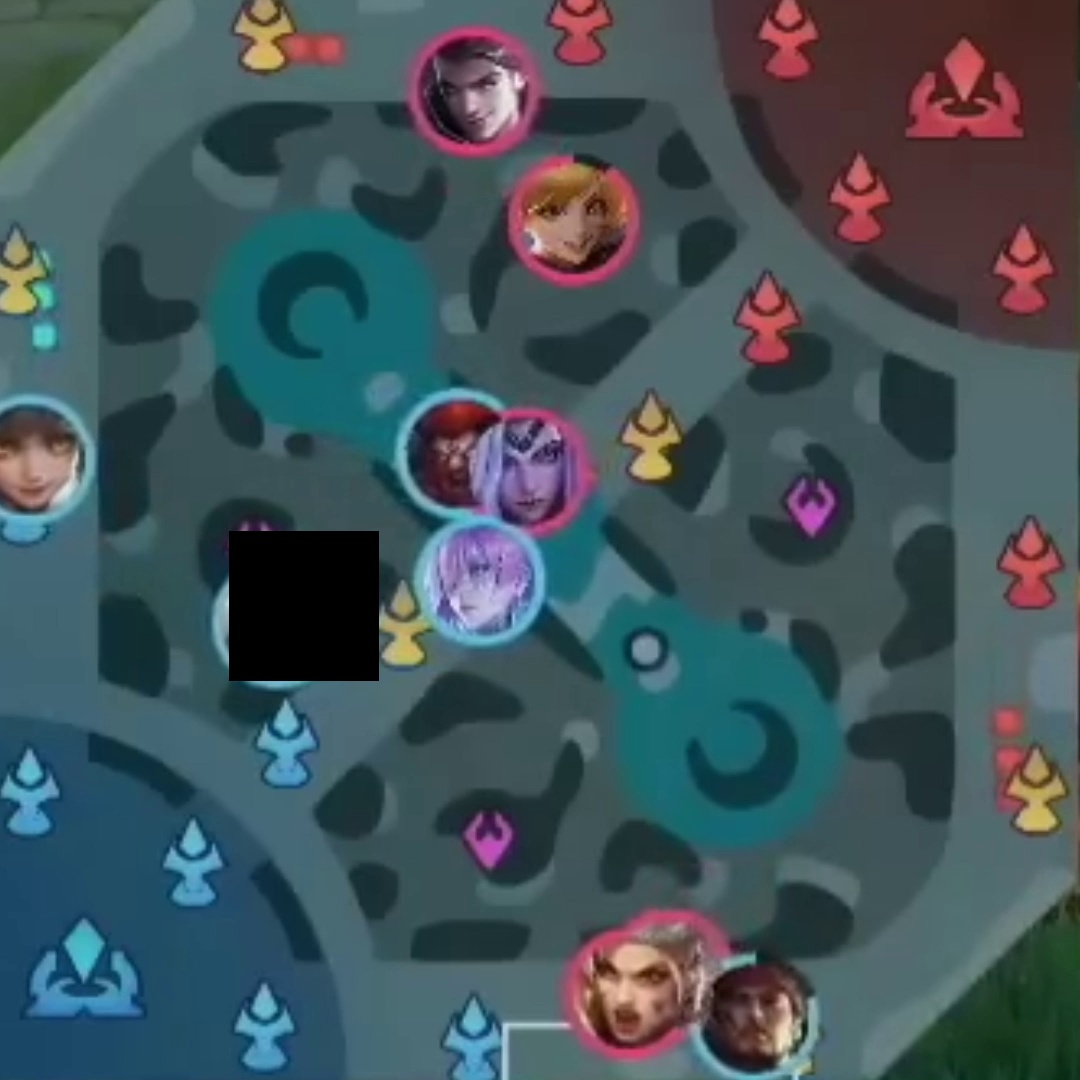Claude: (419, 38, 532, 146)
Fanny: (523, 166, 618, 260)
Fredrinn: (223, 567, 343, 680)
Lapu-Lapu: (705, 967, 819, 1071)
Masha: (576, 943, 676, 1051)
Minotaur: (409, 400, 490, 503)
Novaria: (427, 531, 528, 634)
Valentina: (497, 424, 580, 521)
Wanwan: (1, 410, 90, 511)
